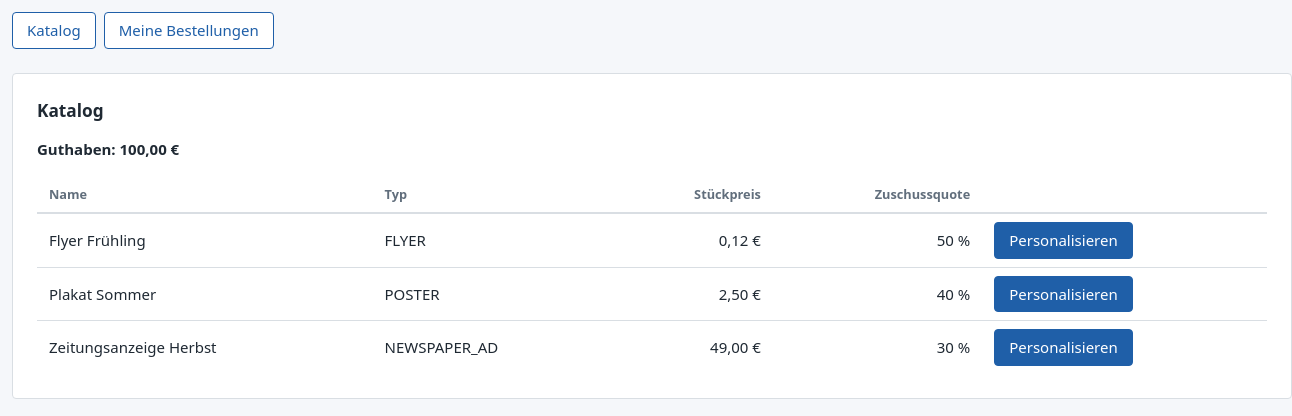
it: PartnerPage › ui7_navigationShowsMyOrders
Expected: the heading "Katalog" is shown, [37, 98, 104, 122]
Click the button "Meine Bestellungen": (189, 30) [104, 12, 274, 48]
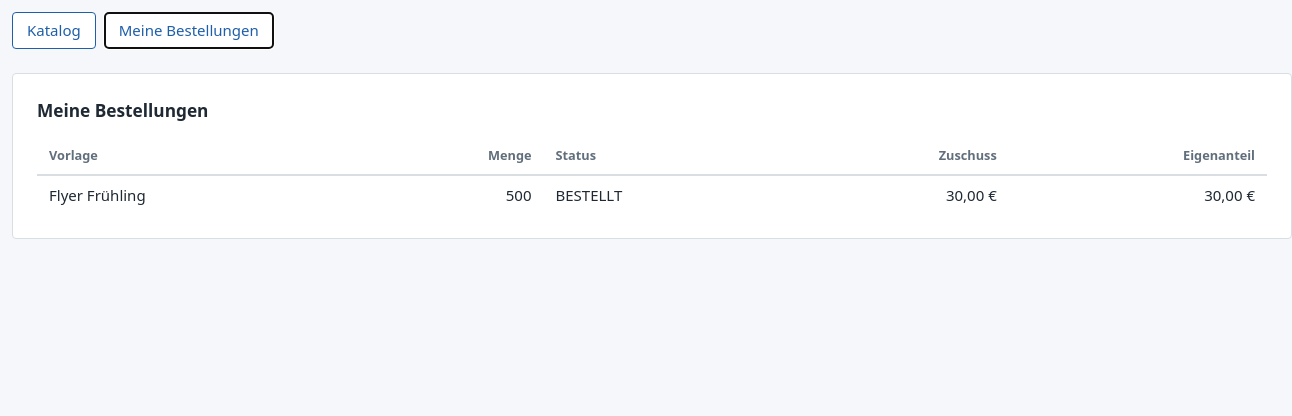
Expected: the heading "Meine Bestellungen" is shown, [37, 98, 208, 122]
Expected: the cells read "Flyer Frühling", "500", "BESTELLT", "30,00 €", "30,00 €", in this order, [37, 174, 362, 214]; [362, 174, 544, 214]; [544, 174, 788, 214]; [788, 174, 1009, 214]; [1009, 174, 1267, 214]
